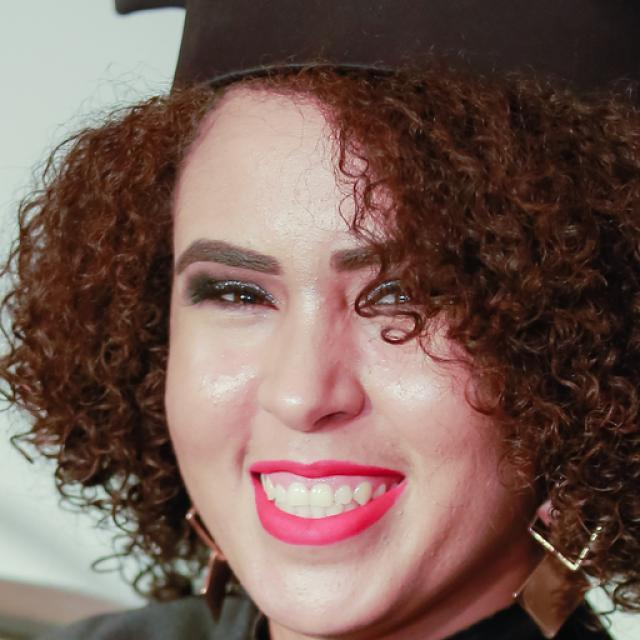happy: (165, 84, 513, 622)
